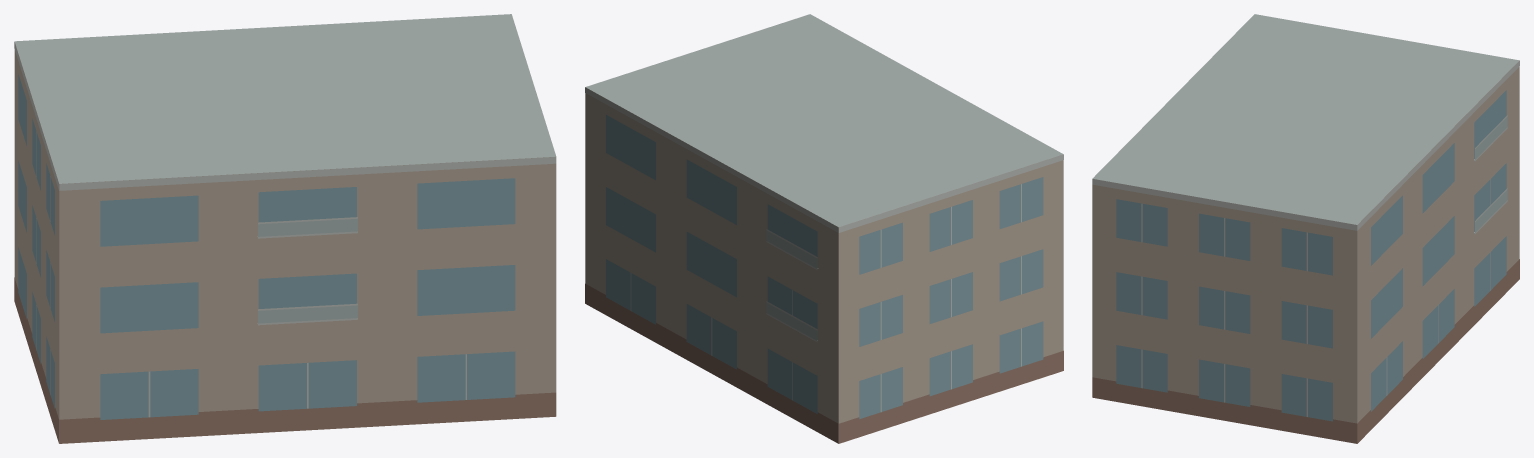
Rendered from survey-upis-32797651.glb.
3 views of the same model, side by side, from view 1: azimuth 30°, elevation 25°; view 2: azimuth 150°, elevation 25°; view 3: azimuth 270°, elevation 25° (orthographic). The views are drawn at different scales.
Visible parts, largest first — view 1: survey-upis-32797651.tmp; view 2: survey-upis-32797651.tmp; view 3: survey-upis-32797651.tmp.
Boxes of the visible parts, x1,y1,x2,y2 form: survey-upis-32797651.tmp: [14, 14, 556, 443]; survey-upis-32797651.tmp: [585, 14, 1063, 443]; survey-upis-32797651.tmp: [1092, 14, 1519, 443].
Bounding box in the file's own units: 18.93 × 9.15 × 16.2.
